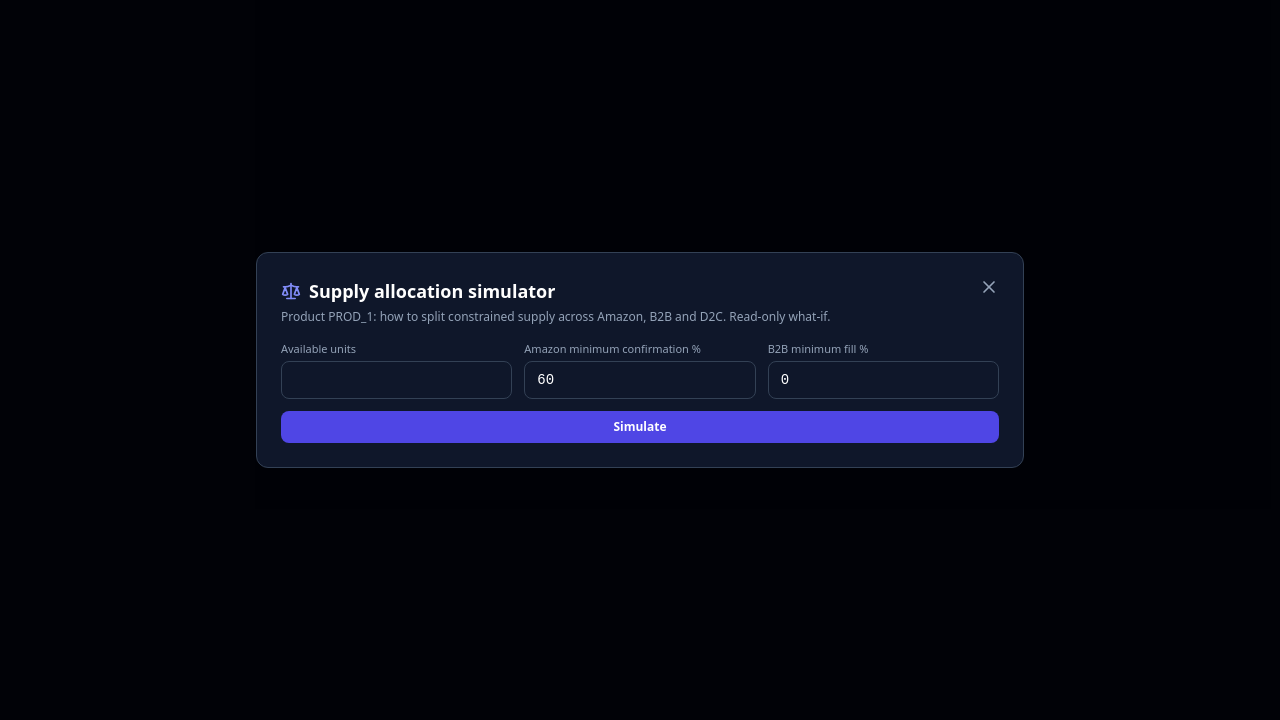
Scenario: AllocationModal › shows API errors
This screenshot has width=1280, height=720.
Type "10" into the number field labelled "Available units".
click(397, 380); type("10")  # box [281,361,512,399]
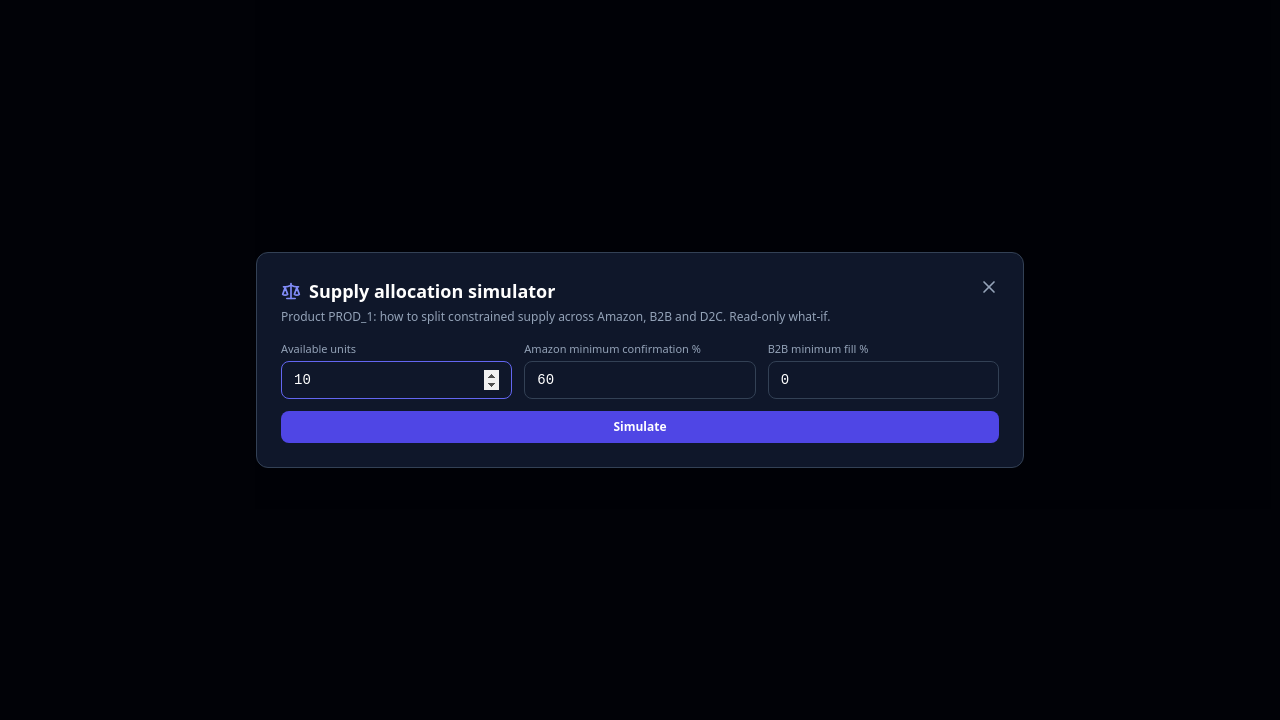
Click the button "Simulate".
click(640, 427)  # box [281,411,999,443]
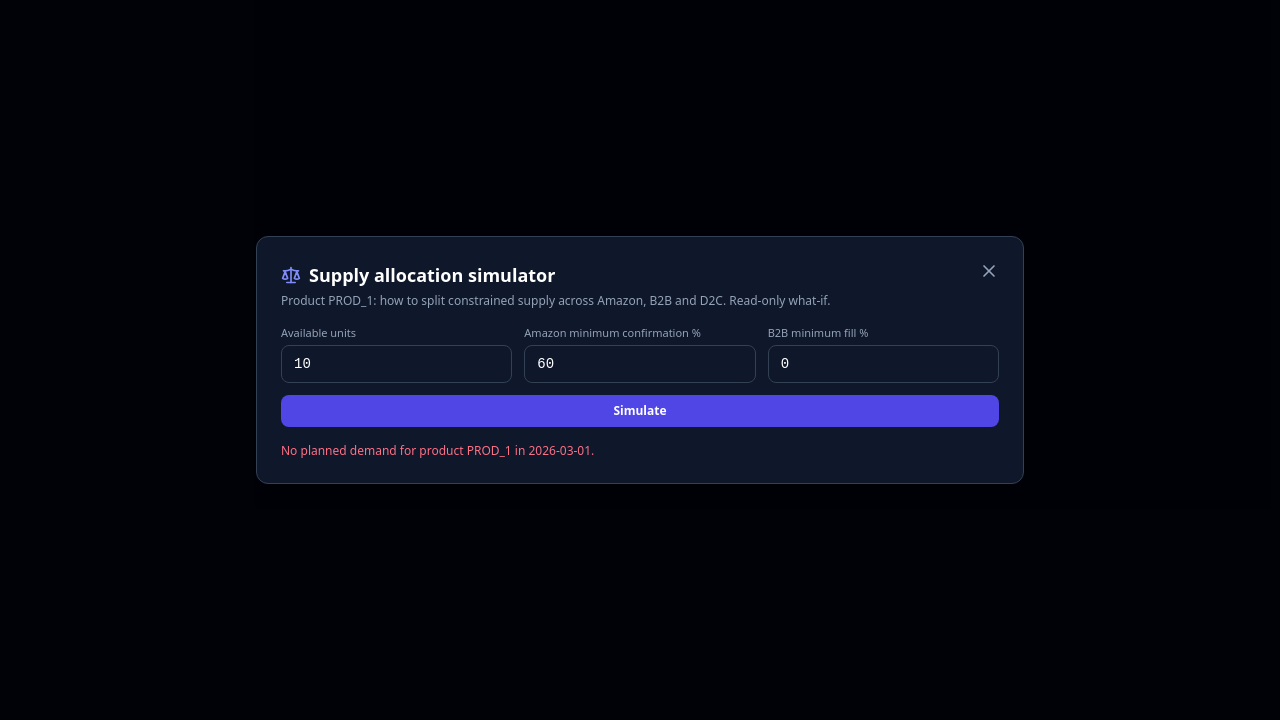
Now the message shows "No planned demand", box [281,442,594,459]
